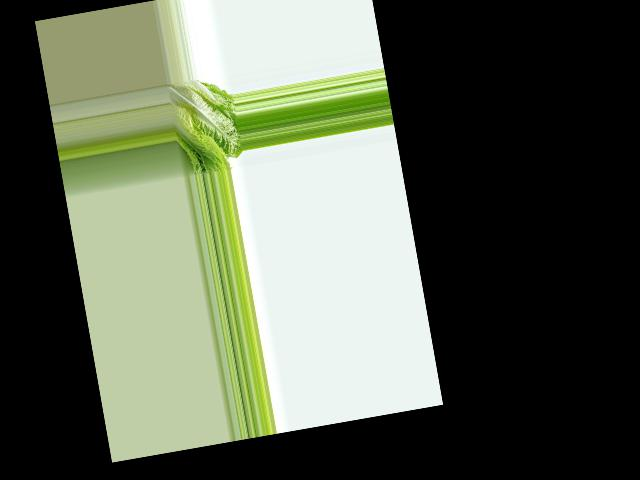lettuce: (166, 73, 244, 178)
